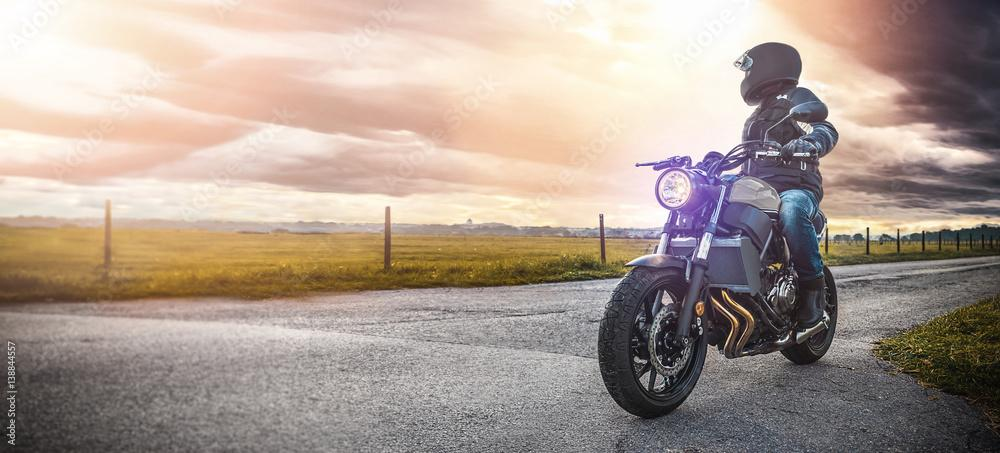helmet: (732, 41, 803, 106)
